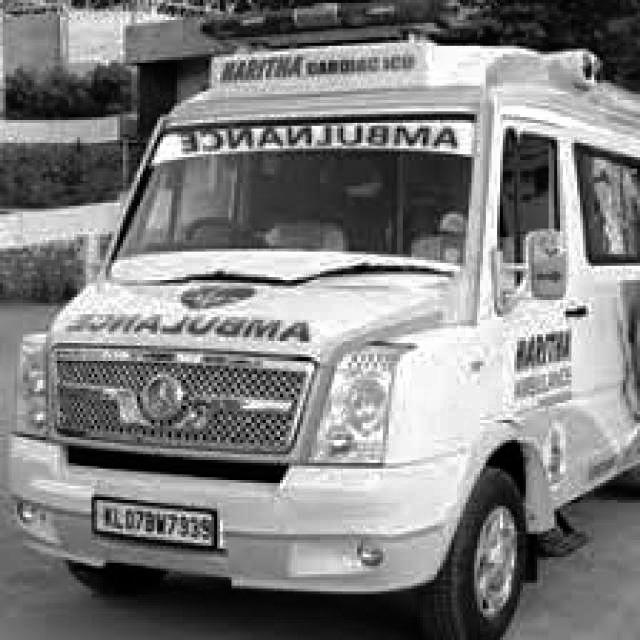LCV: (5, 2, 505, 590)
